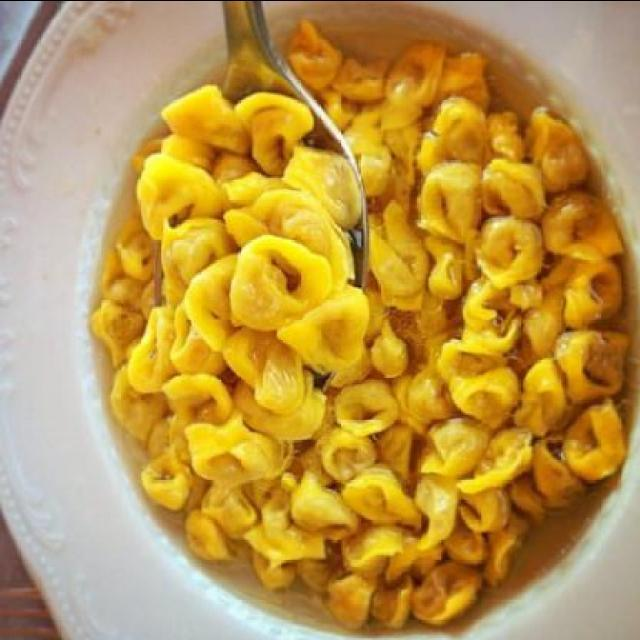Tortellini in broth: (112, 112, 586, 600)
